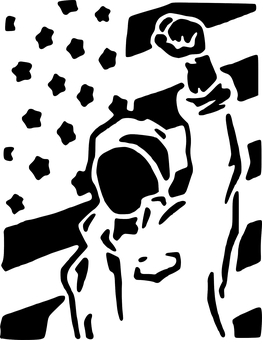fist: (149, 14, 214, 60)
